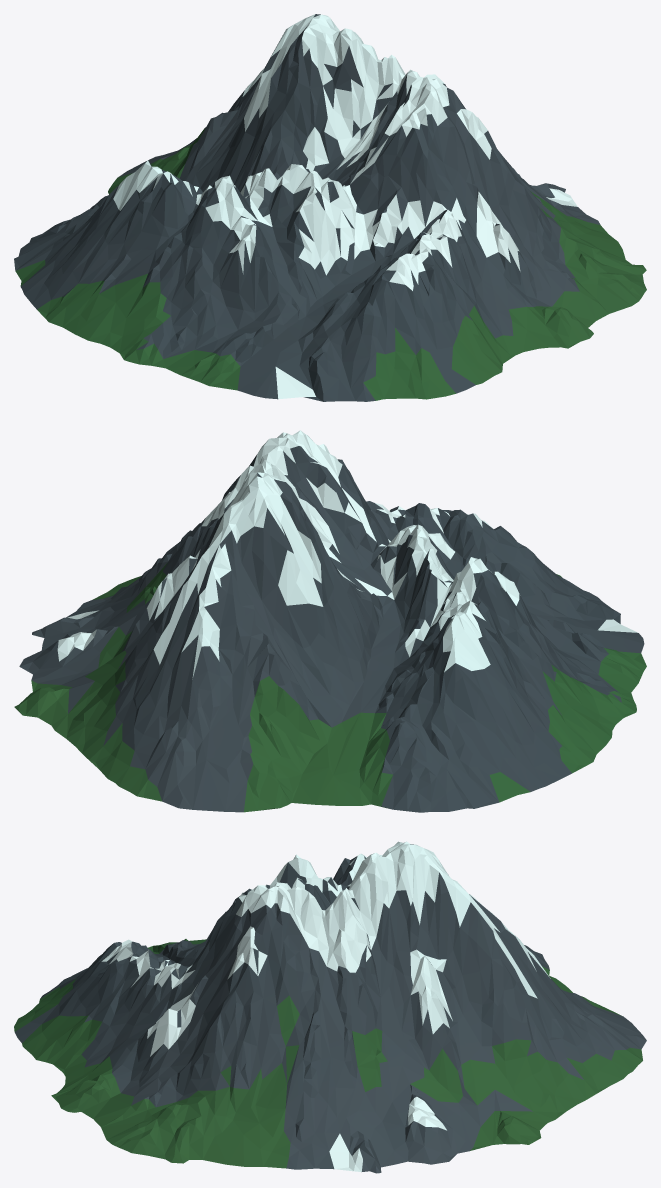
Rendered from nature_mountains_mdl.fbx.
3 renders of one model, top to bottom at view 1: azimuth 30°, elevation 25°; view 2: azimuth 150°, elevation 25°; view 3: azimuth 270°, elevation 25°, orthographic. The views are drawn at different scales.
Visible parts, largest first — view 1: nature_Mountain_mdl; view 2: nature_Mountain_mdl; view 3: nature_Mountain_mdl.
Boxes of the visible parts, x1,y1,x2,y2 form: nature_Mountain_mdl: (14, 14, 646, 401); nature_Mountain_mdl: (14, 430, 646, 812); nature_Mountain_mdl: (14, 841, 646, 1173).
Size of the model in its own units: 6242 by 2497 by 6566.
